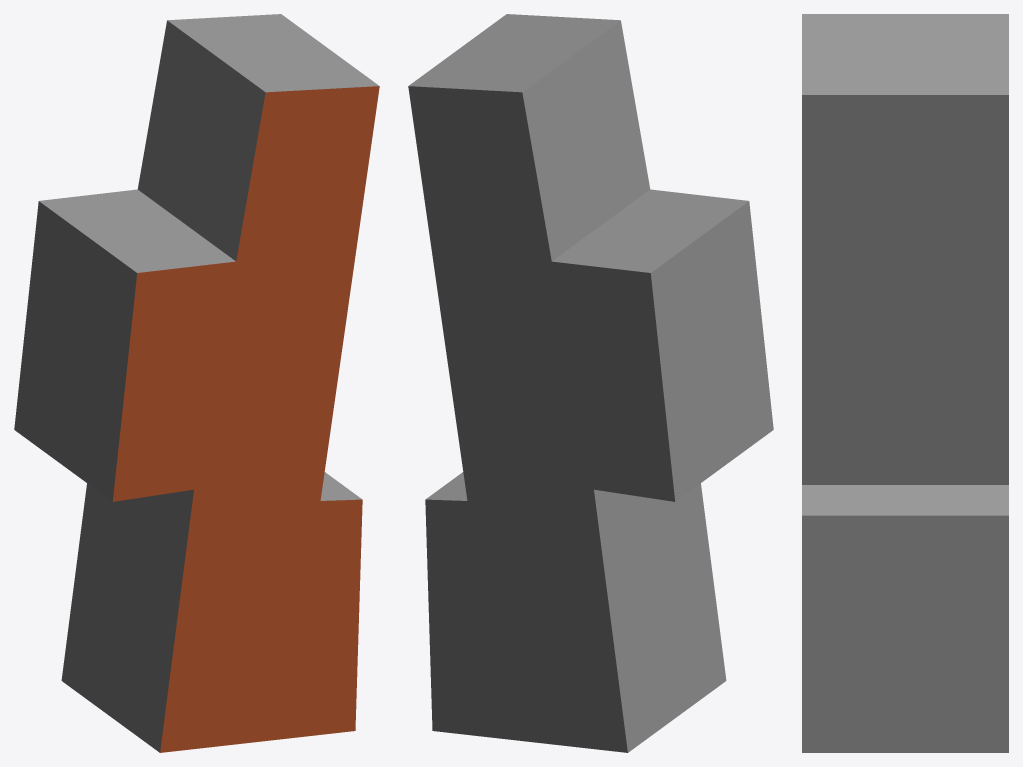
The model's file is construction_0330_assumed_A_Casa_h6m.obj.
The picture shows the model from 3 angles, left to right: view 1: azimuth 30°, elevation 25°; view 2: azimuth 150°, elevation 25°; view 3: azimuth 270°, elevation 25°; orthographic projection. The views are drawn at different scales.
Parts seen in each view (by area): view 1: construction_0330_assumed_A_Casa; view 2: construction_0330_assumed_A_Casa; view 3: construction_0330_assumed_A_Casa.
Part boxes in pixels (<box>): construction_0330_assumed_A_Casa: <box>14,14,379,752</box>; construction_0330_assumed_A_Casa: <box>408,14,773,752</box>; construction_0330_assumed_A_Casa: <box>802,14,1008,752</box>.
Size of the model in its own units: 9.39 by 22.19 by 6.
